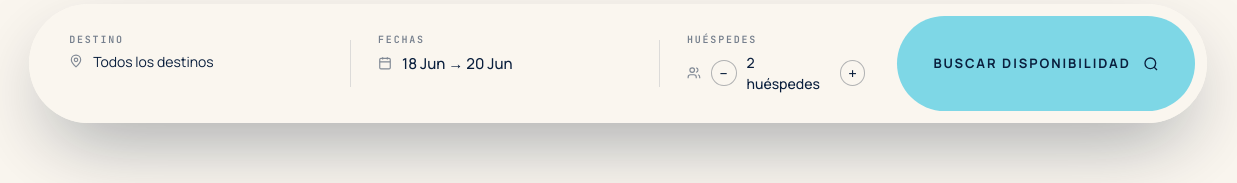
SearchWidget Integration › Guest Count › increments guest count
Click the button named "Más".
click(853, 73)  # box [840,60,866,86]
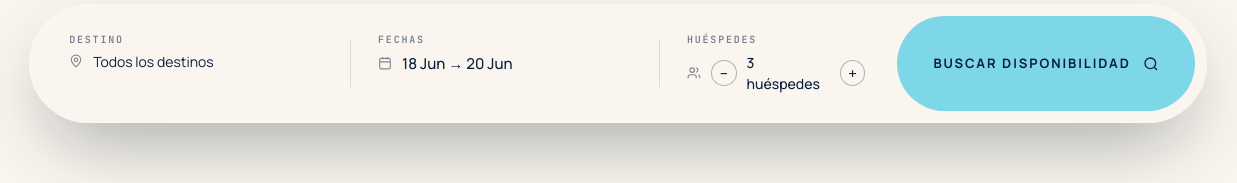
Now the text "3 huéspedes" is shown, box [746,52,830,95]
